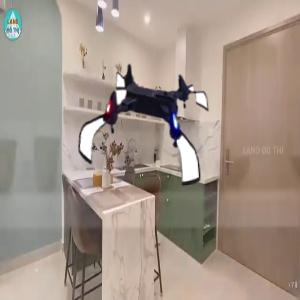drone: (74, 57, 214, 197)
